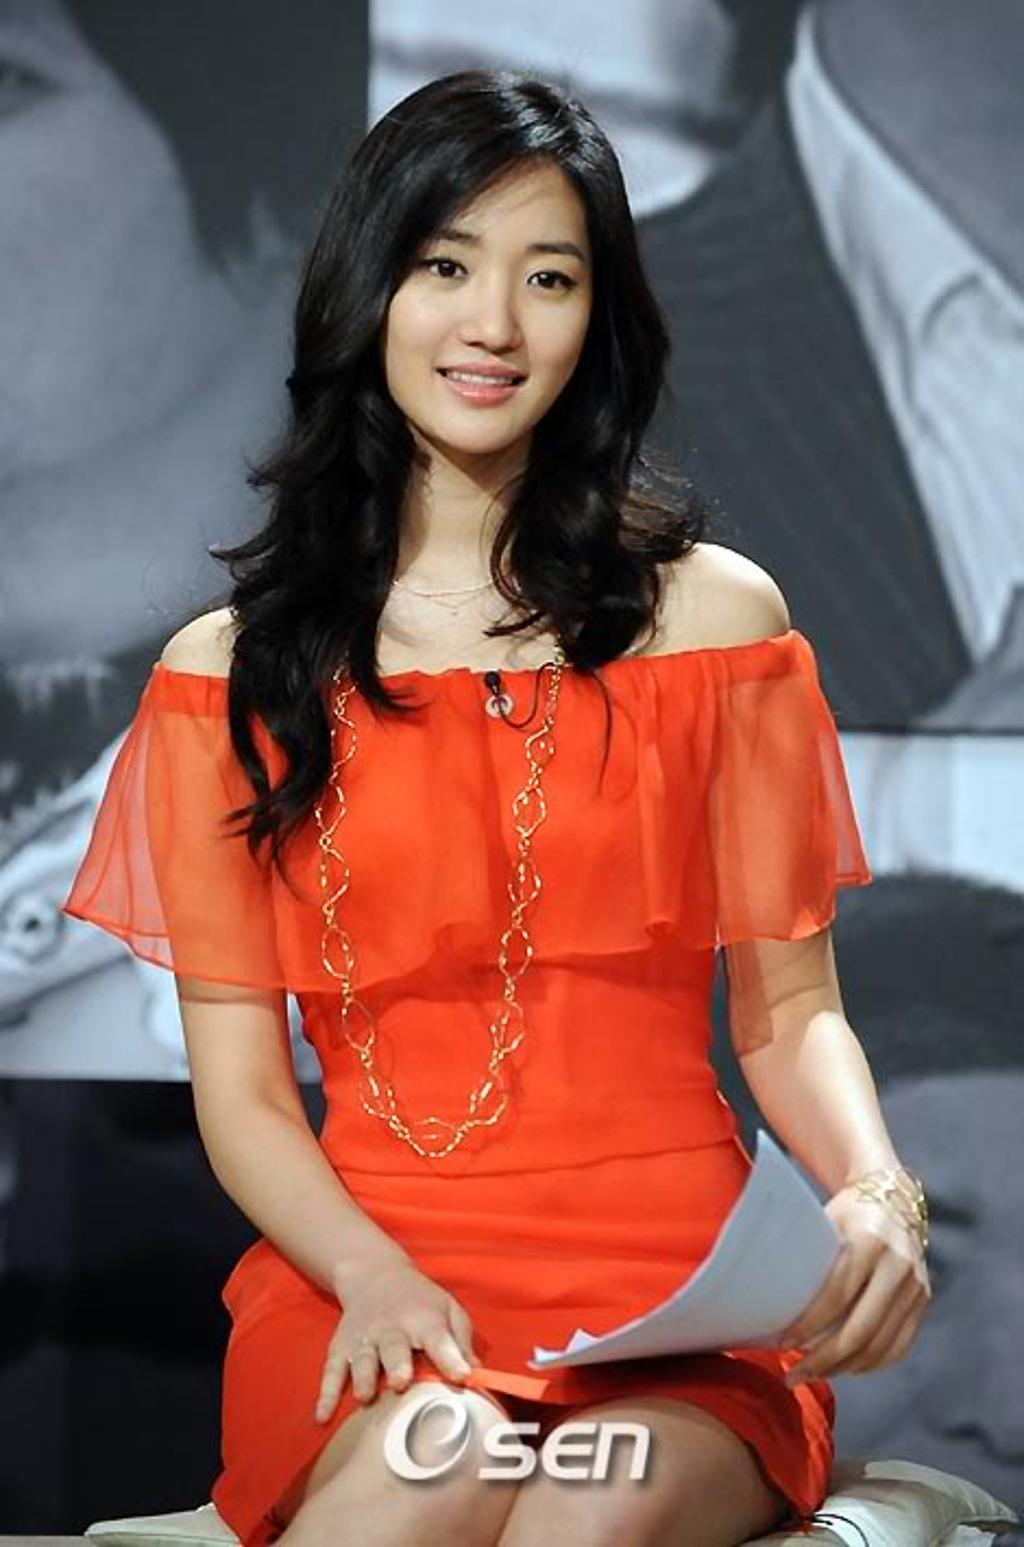face: (390, 154, 595, 453)
